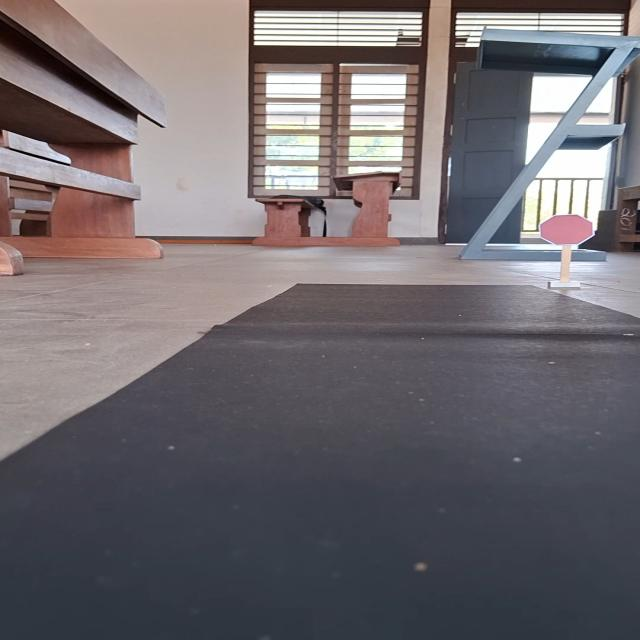Stop: (538, 214, 596, 246)
